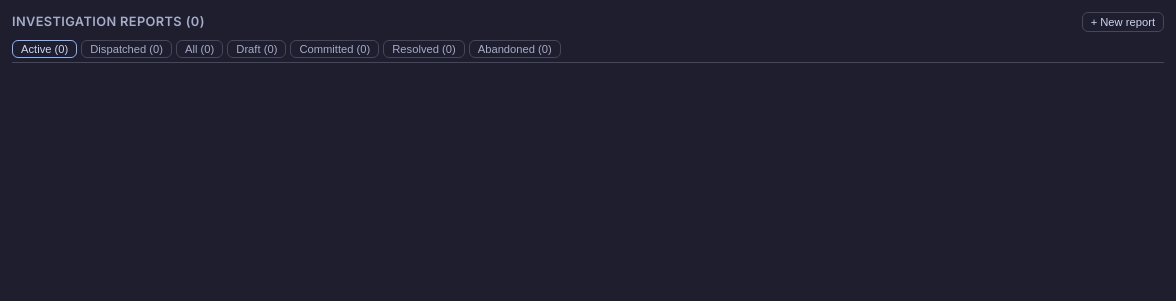
Test: InvestigationReportSection — filing a report is a single action › files the report when only the title is populated (symptom left blank)
expect the element with test id "investigation-report-section" is shown: met, box top-left (12, 12), bottom-right (1164, 64)
Click the button with test id "report-start-draft".
click(1123, 22)  # box top-left (1082, 12), bottom-right (1164, 32)
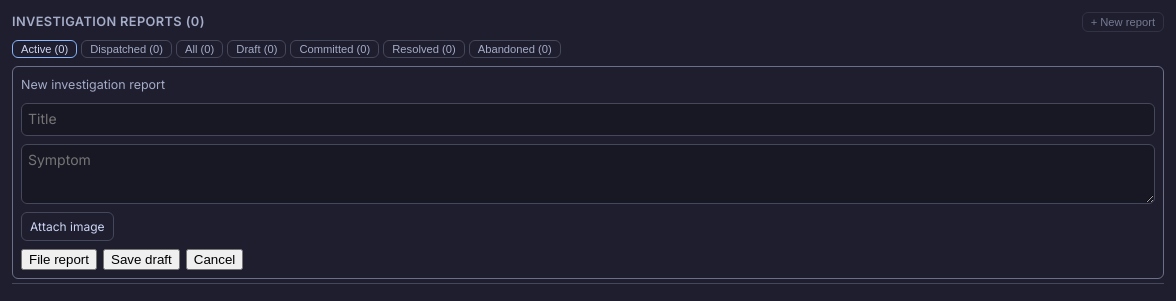
Type "New symptom" into the field with test id "report-draft-title".
click(588, 120); type("New symptom")  # box top-left (21, 103), bottom-right (1155, 136)
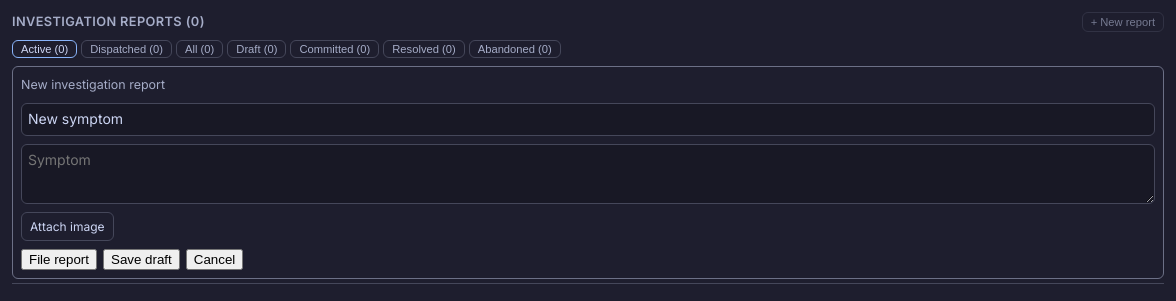
Click the button with test id "report-draft-submit".
click(59, 260)  # box top-left (21, 249), bottom-right (97, 270)
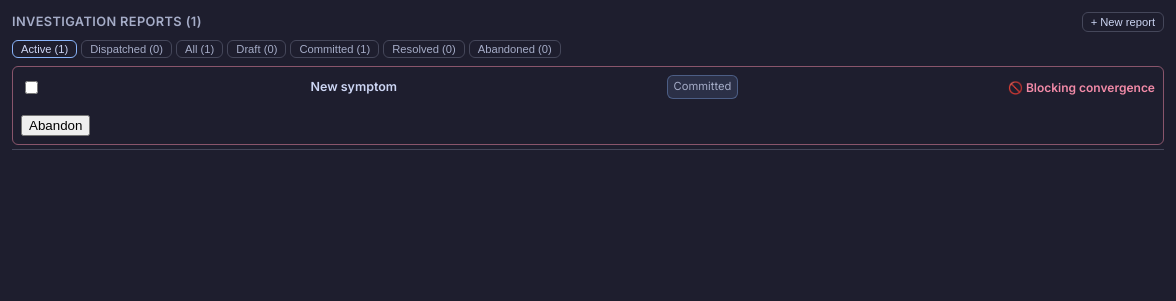
expect the element with test id "report-card-r-no-symptom" is shown: met, box top-left (12, 66), bottom-right (1164, 145)
